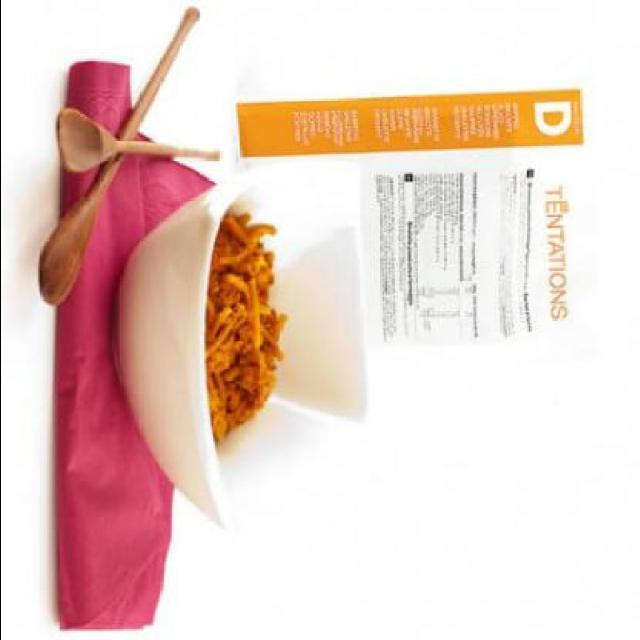Pasta al ragu: (124, 177, 330, 506)
